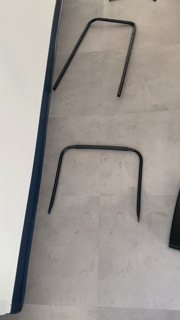C pipe: (49, 144, 147, 224)
U pipe: (53, 18, 140, 100)
